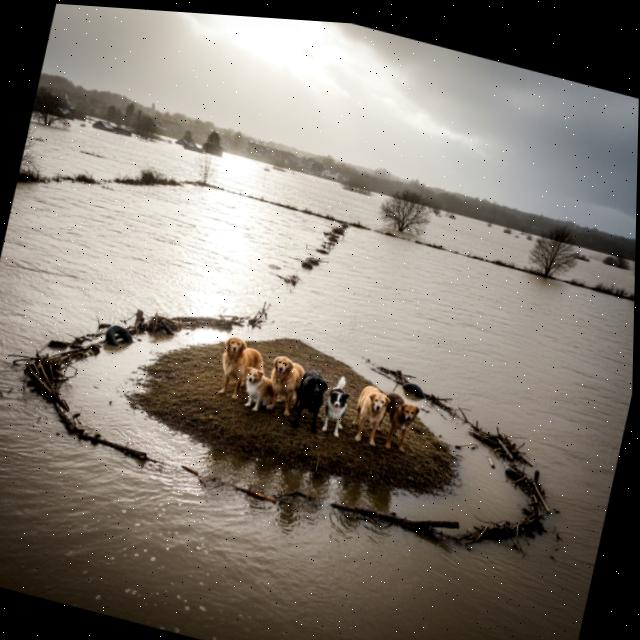dog: (209, 332, 270, 412), (346, 379, 395, 453), (287, 364, 336, 438), (376, 389, 425, 461), (260, 351, 307, 423), (318, 373, 357, 443), (236, 362, 279, 416)
